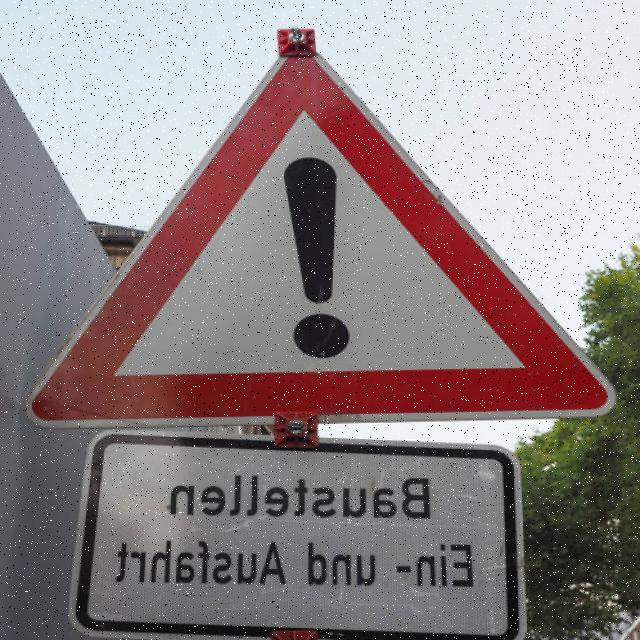warning: (0, 30, 624, 443)
